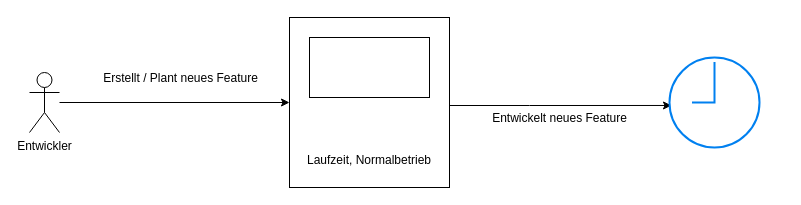
Some shapes in this 801 by 205 pixel diagram are drawn without their labels. Here are the shapes that lost their labels. From the top down, the centre of each, then its label:
the point at 369,67: Gesamtsystem
the point at 714,102: Fertig in kleinem Zeitraum
